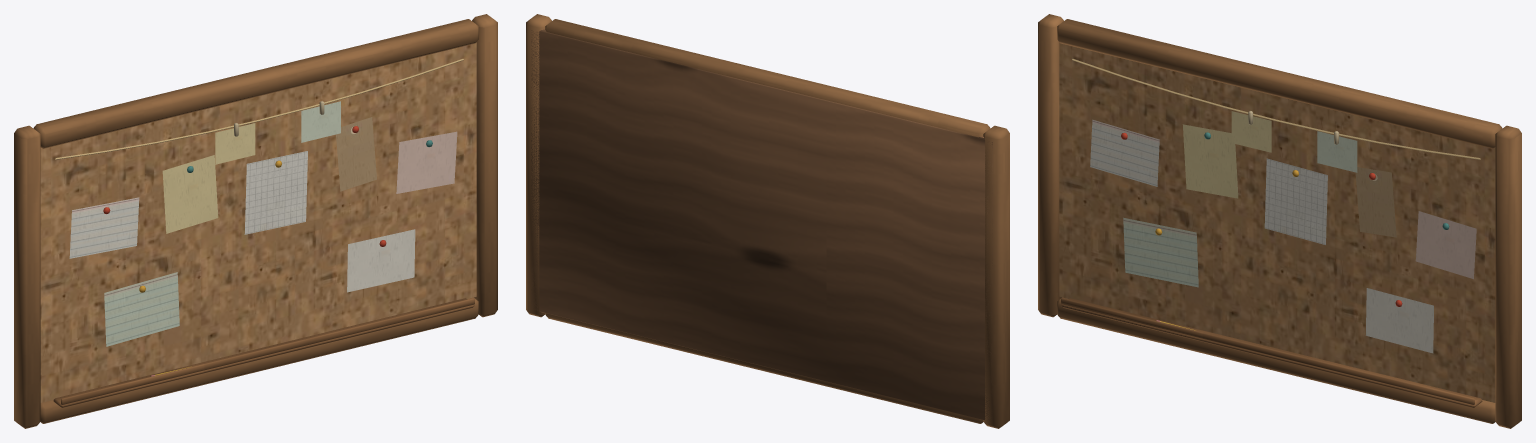
The model's file is hq-notice-board.glb.
3 views of the same model, side by side, from view 1: azimuth 30°, elevation 25°; view 2: azimuth 150°, elevation 25°; view 3: azimuth 330°, elevation 25° (orthographic).
Visible parts, largest first — view 1: hq-notice-board; view 2: hq-notice-board; view 3: hq-notice-board.
Part boxes in pixels (<box>): hq-notice-board: <box>14,14,497,428</box>; hq-notice-board: <box>526,14,1009,428</box>; hq-notice-board: <box>1038,14,1521,428</box>.
Bounding box in the file's own units: 1.55 × 0.92 × 0.105.
2 materials, 2 textured.
